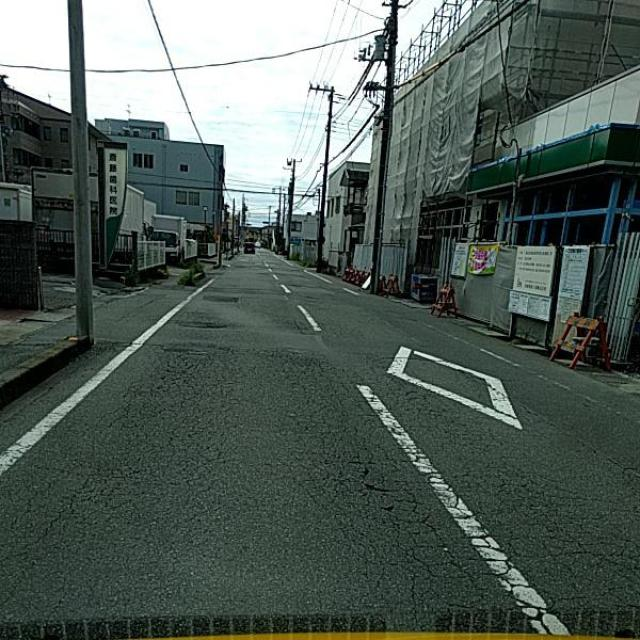Crack: (271, 276, 599, 640)
